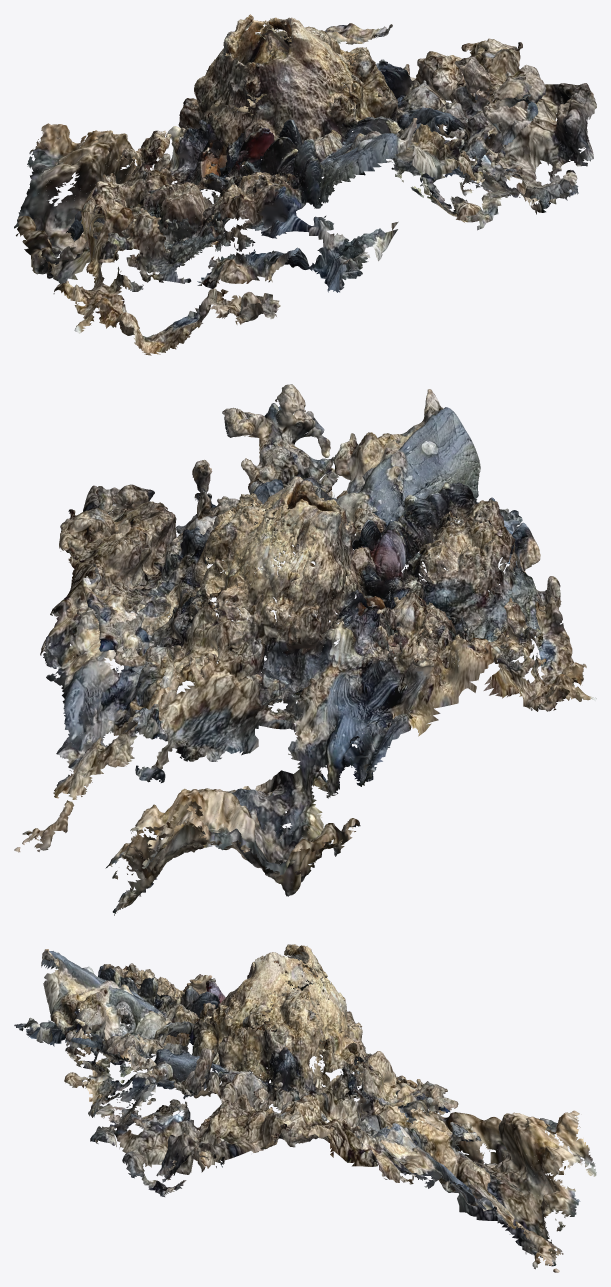
File: compressed_1751113727679_giant_acorn_barnacle_balanus_nubilis.glb
3 renders of one model, top to bottom at view 1: azimuth 30°, elevation 25°; view 2: azimuth 150°, elevation 25°; view 3: azimuth 270°, elevation 25°, orthographic. The views are drawn at different scales.
Parts seen in each view (by area): view 1: Object_2, Object_4, Object_5, Object_6, Object_7, Object_10, Object_8, Object_9, Object_11, Object_14, Object_13, Object_18 (+6 smaller); view 2: Object_2, Object_5, Object_4, Object_6, Object_7, Object_8, Object_10, Object_9, Object_11, Object_13, Object_12, Object_15 (+5 smaller); view 3: Object_2, Object_5, Object_4, Object_6, Object_7, Object_8, Object_10, Object_9, Object_11, Object_16, Object_15, Object_12 (+4 smaller).
Boxes of the visible parts, bbox=[...] form: Object_2: bbox=[14, 14, 596, 350]; Object_4: bbox=[33, 15, 586, 353]; Object_5: bbox=[27, 19, 582, 354]; Object_6: bbox=[17, 26, 593, 335]; Object_7: bbox=[36, 17, 586, 318]; Object_10: bbox=[47, 16, 593, 279]; Object_8: bbox=[48, 19, 570, 355]; Object_9: bbox=[23, 17, 575, 350]; Object_11: bbox=[37, 26, 568, 349]; Object_14: bbox=[51, 23, 538, 328]; Object_13: bbox=[29, 19, 560, 319]; Object_18: bbox=[53, 22, 541, 300]; Object_2: bbox=[42, 384, 572, 898]; Object_5: bbox=[22, 389, 586, 874]; Object_4: bbox=[53, 384, 581, 881]; Object_6: bbox=[35, 419, 596, 915]; Object_7: bbox=[46, 417, 569, 895]; Object_8: bbox=[48, 402, 549, 870]; Object_10: bbox=[39, 414, 539, 879]; Object_9: bbox=[71, 419, 568, 909]; Object_11: bbox=[67, 412, 573, 877]; Object_13: bbox=[50, 431, 577, 876]; Object_12: bbox=[23, 409, 552, 889]; Object_15: bbox=[48, 410, 568, 892]; Object_2: bbox=[42, 944, 596, 1251]; Object_5: bbox=[41, 944, 580, 1269]; Object_4: bbox=[14, 944, 561, 1229]; Object_6: bbox=[47, 962, 563, 1265]; Object_7: bbox=[26, 959, 558, 1257]; Object_8: bbox=[50, 953, 552, 1190]; Object_10: bbox=[19, 947, 589, 1249]; Object_9: bbox=[14, 945, 576, 1258]; Object_11: bbox=[61, 949, 560, 1206]; Object_16: bbox=[46, 949, 556, 1204]; Object_15: bbox=[32, 946, 548, 1249]; Object_12: bbox=[52, 952, 556, 1264].
Size of the model in its own units: 7.45 by 4.77 by 8.34.
50 materials, 50 textured.
